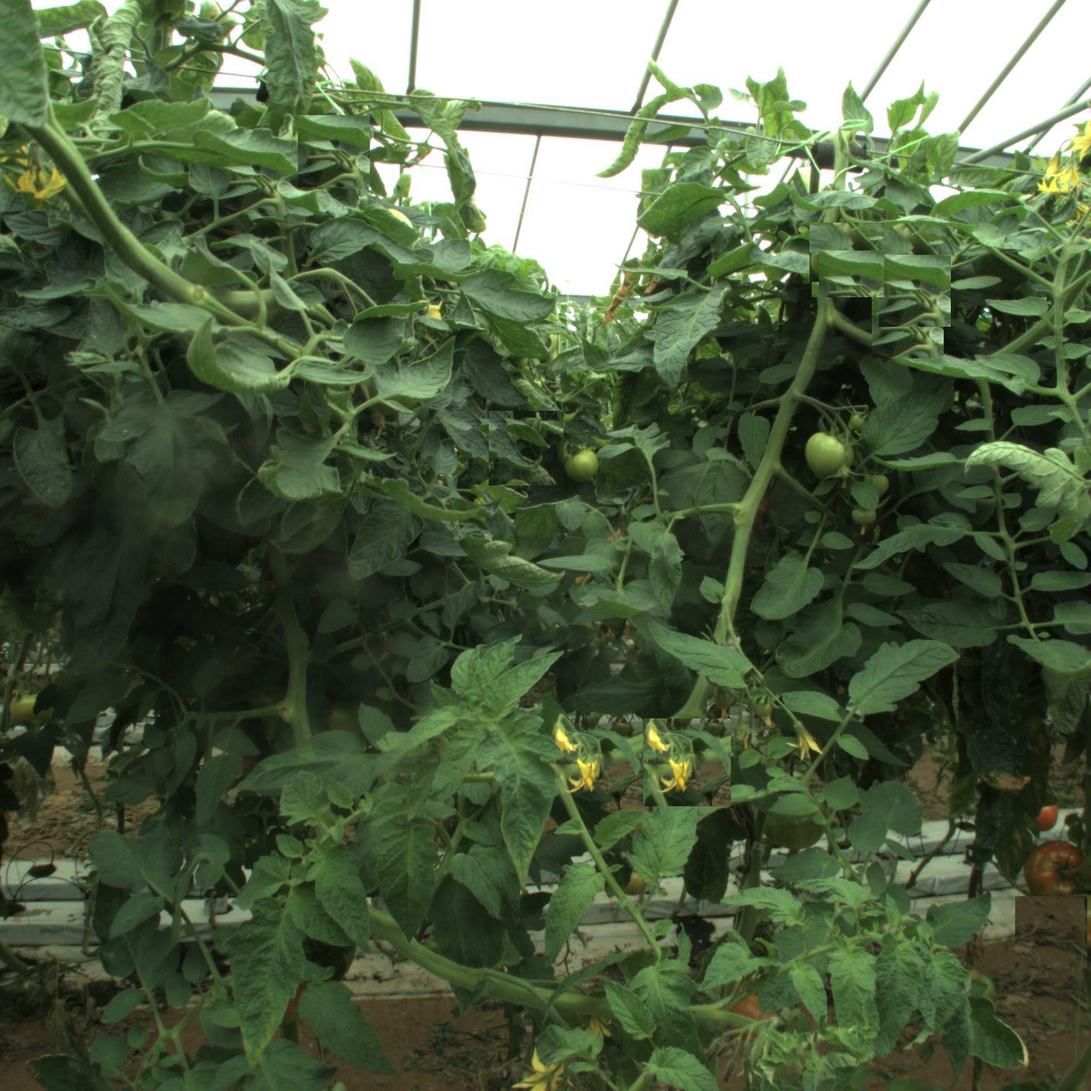semi-ripe: (1023, 840, 1089, 906)
unripe: (806, 430, 854, 478), (564, 447, 602, 485)
